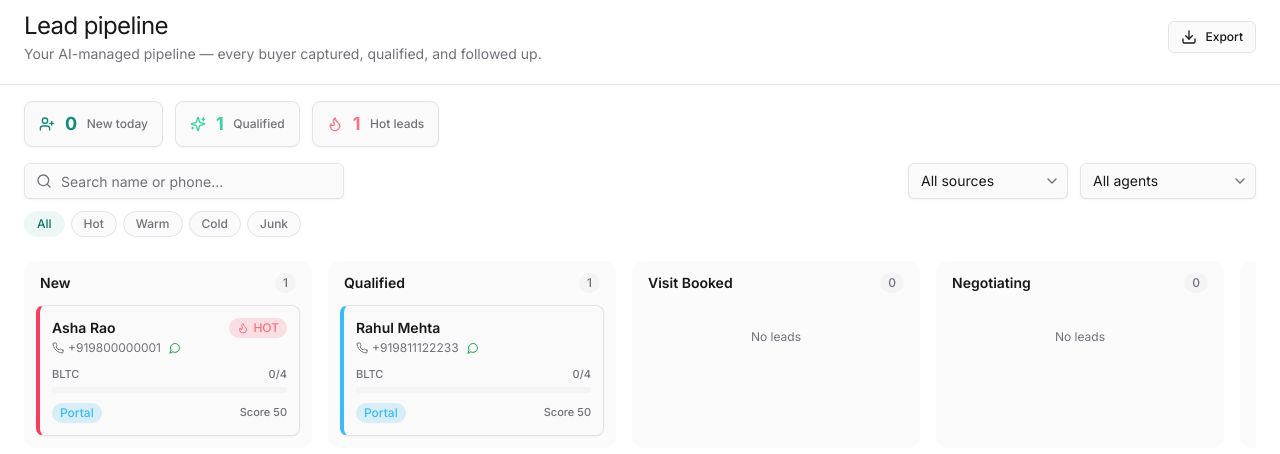
Test: LeadsPage filtering › filters by phone number
Type "9811122233" into the search field named "Search leads" at (184, 181), box [24, 163, 344, 199]
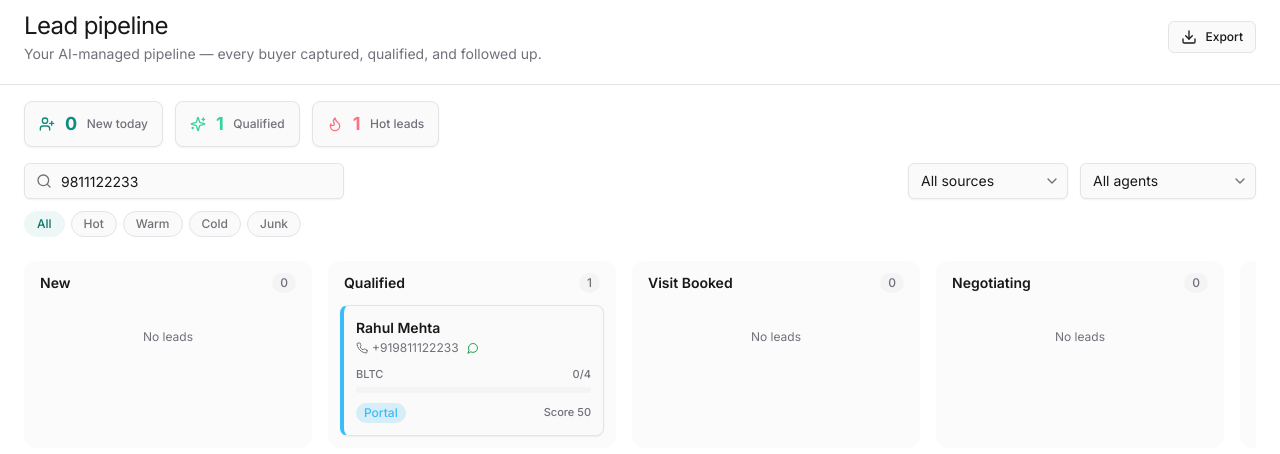
Expected: the text "Rahul Mehta" is shown, [356, 319, 440, 336]
Result: the link "Asha Rao" is gone
